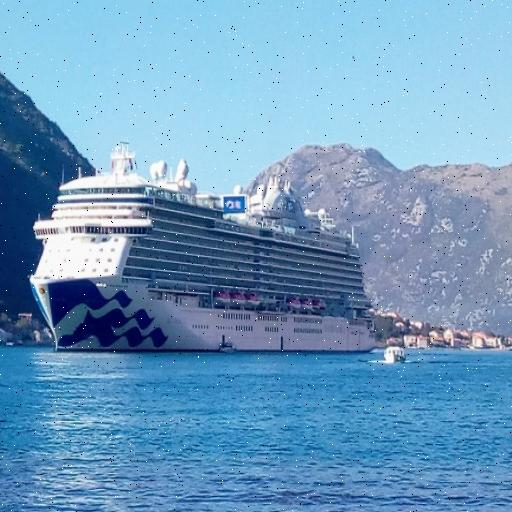cruises: (24, 135, 384, 362)
